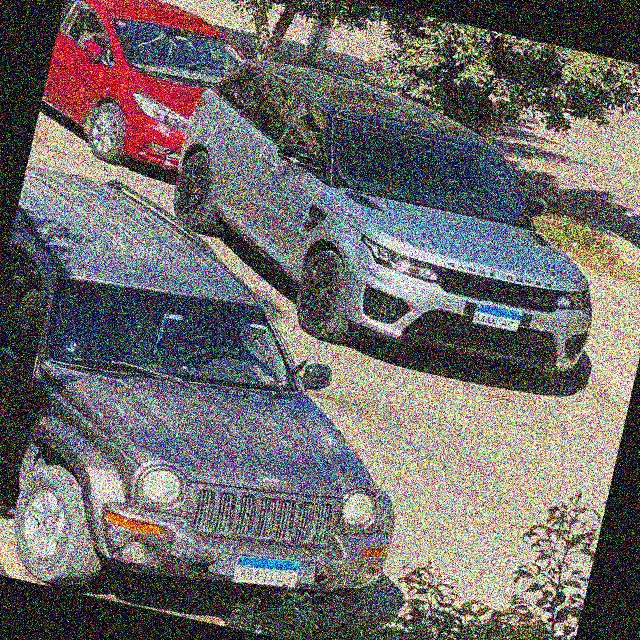License Plate: (230, 547, 304, 597), (470, 302, 524, 335)
